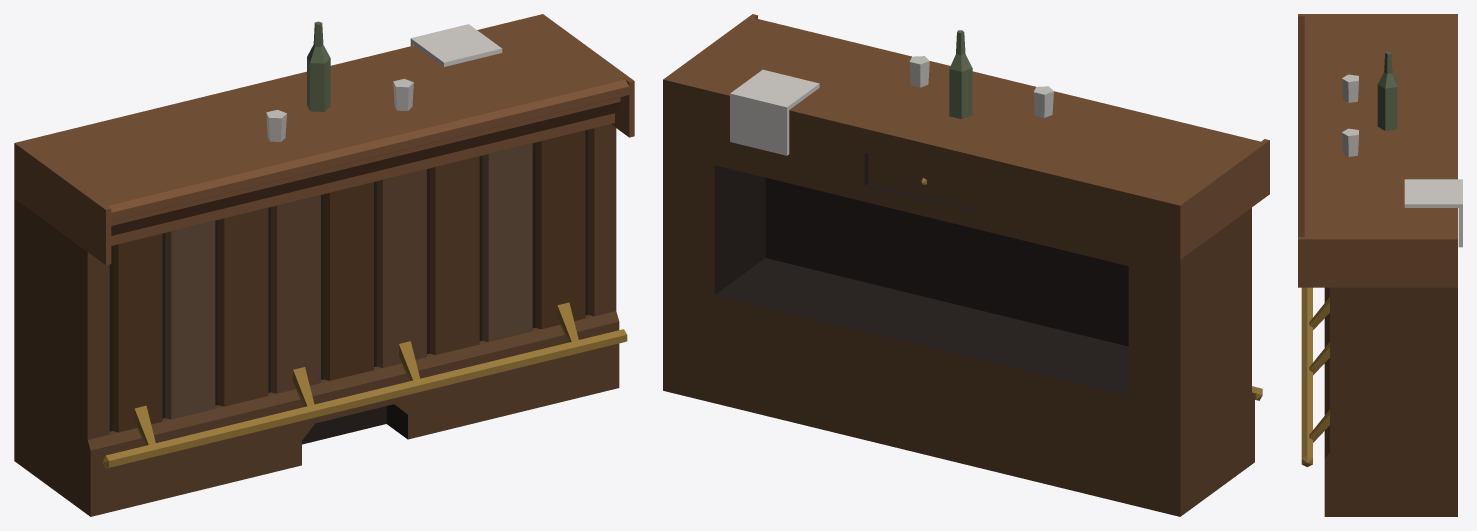
The model's file is bar-counter-run-ab3b08.glb.
The picture shows the model from 3 angles, left to right: view 1: azimuth 30°, elevation 25°; view 2: azimuth 150°, elevation 25°; view 3: azimuth 270°, elevation 25°; orthographic projection. The views are drawn at different scales.
Visible parts, largest first — view 1: counter, dressing-mesh; view 2: counter, dressing-mesh, till-drawer; view 3: counter, dressing-mesh.
Part boxes in pixels (x1,y1,x2,y2): counter: (14,14,634,516); dressing-mesh: (266,21,502,141); counter: (663,14,1269,516); dressing-mesh: (730,30,1053,155); till-drawer: (868,154,978,209); counter: (1298,14,1457,516); dressing-mesh: (1341,51,1462,247).
Size of the model in its own units: 2 by 1.46 by 0.619.
